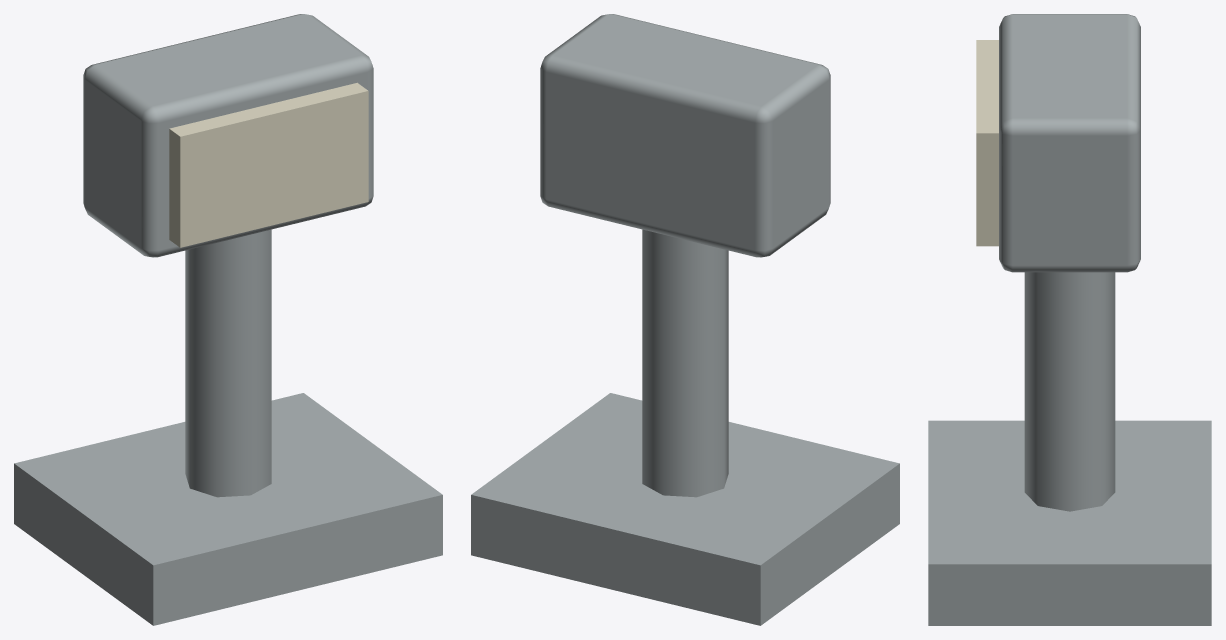
3 views of the same model, side by side, from view 1: azimuth 30°, elevation 25°; view 2: azimuth 150°, elevation 25°; view 3: azimuth 270°, elevation 25° (orthographic).
Visible parts, largest first — view 1: emergency-lamp-mount; view 2: emergency-lamp-mount; view 3: emergency-lamp-mount.
Part boxes in pixels (x1=…): emergency-lamp-mount: x1=14, y1=14, x2=442, y2=625; emergency-lamp-mount: x1=471, y1=14, x2=899, y2=625; emergency-lamp-mount: x1=928, y1=14, x2=1211, y2=625.
Size of the model in its own units: 0.3 by 0.475 by 0.25.
